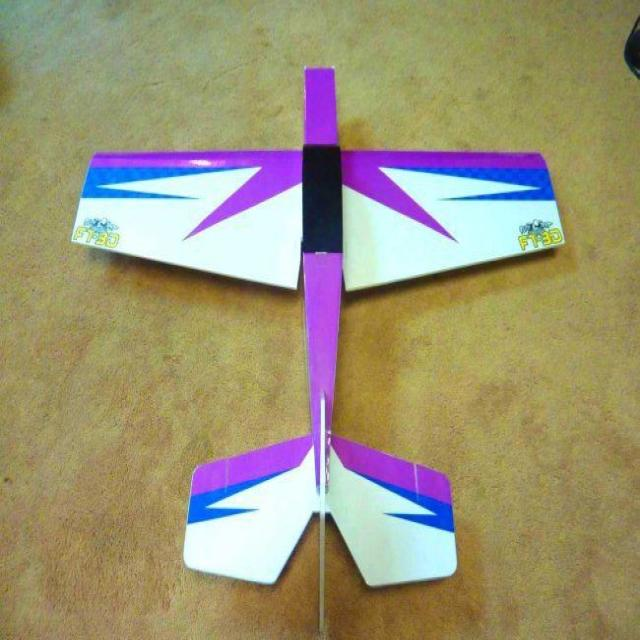iha: (68, 65, 567, 639)
